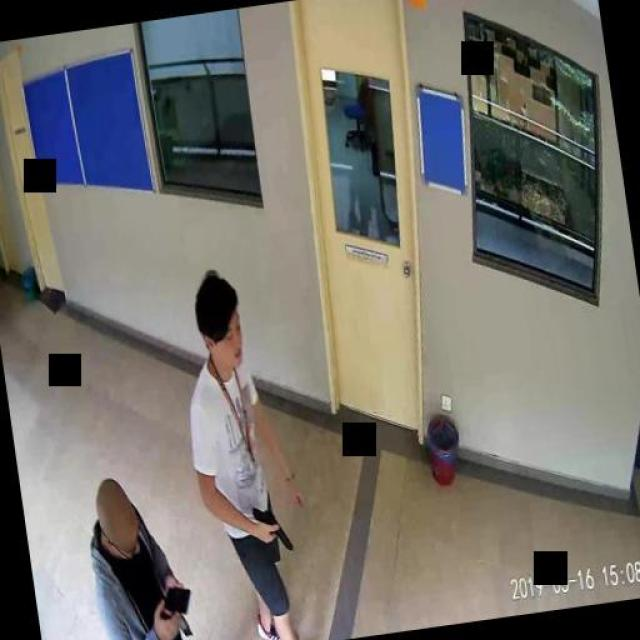gun: (252, 502, 292, 556)
